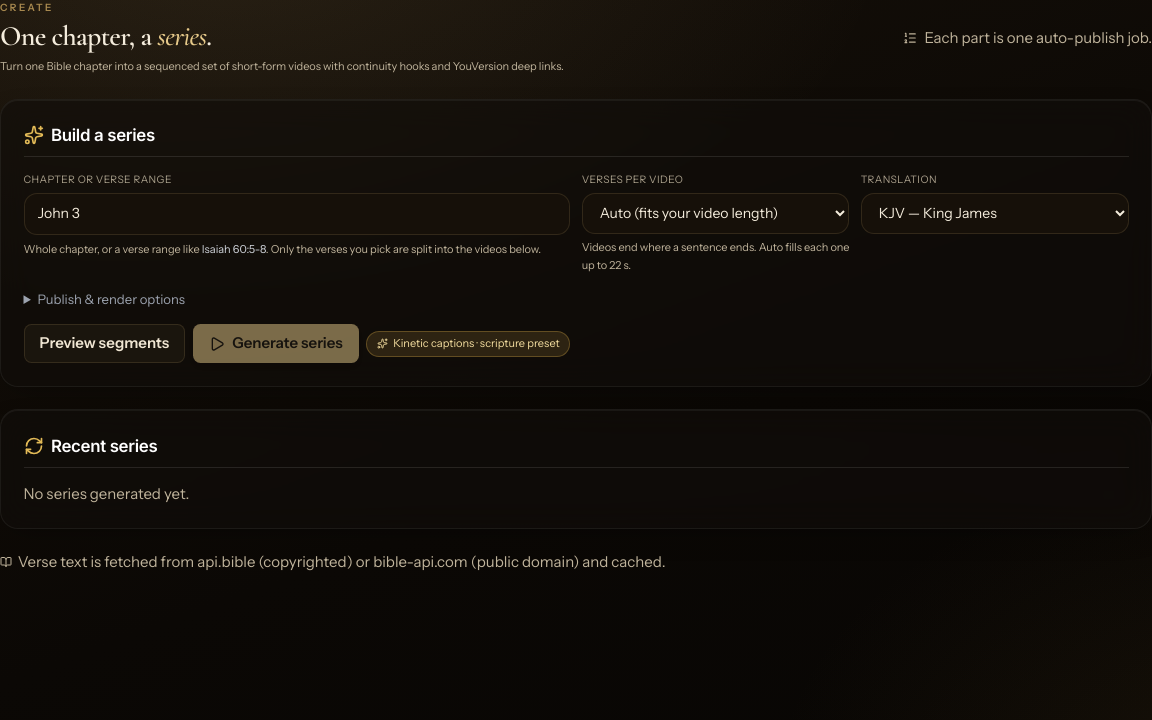
SeriesPage: AI motion › a super admin sees the option on each part, with the estimate
The image size is (1152, 720).
What coordinates should you click on to do the following:
click the button "Preview segments"
I would click on:
 (104, 344)
Its box is [24,324,185,364].
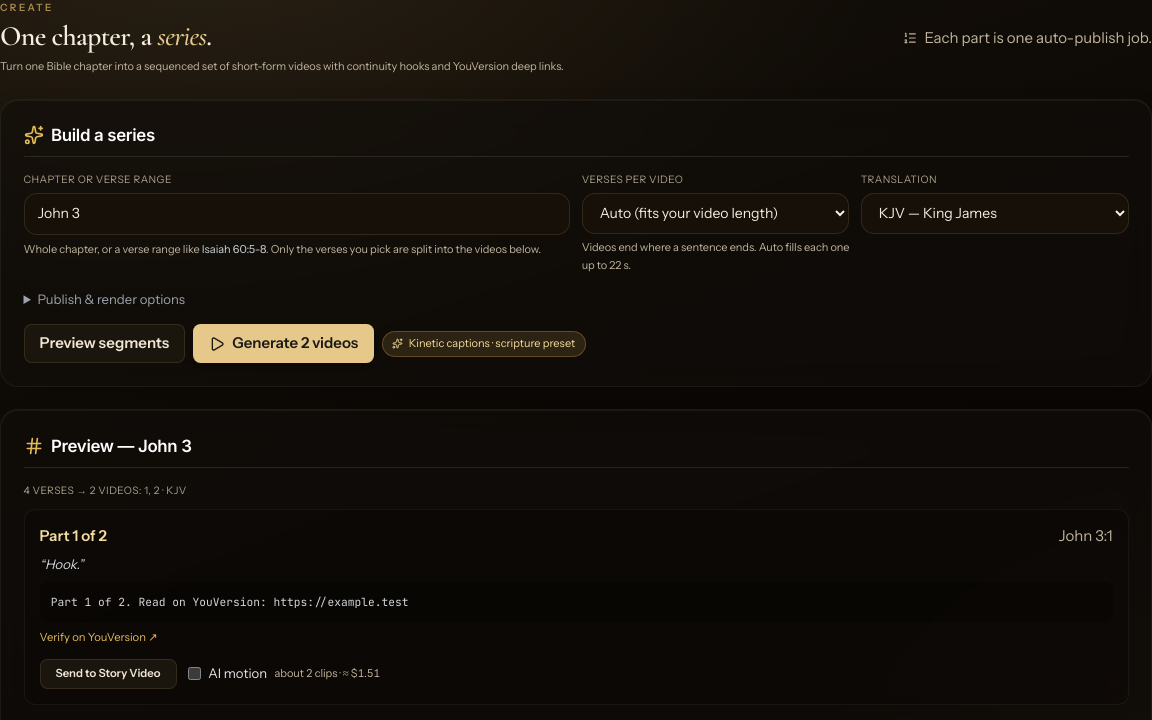
Check: the text "Part 1 of 2" is shown, box [40,525,107,548]
Check: the number of checkboxes labelled "AI motion" is 2
Check: the text "about 2 clips · ≈ $1.51" is shown 2 times
